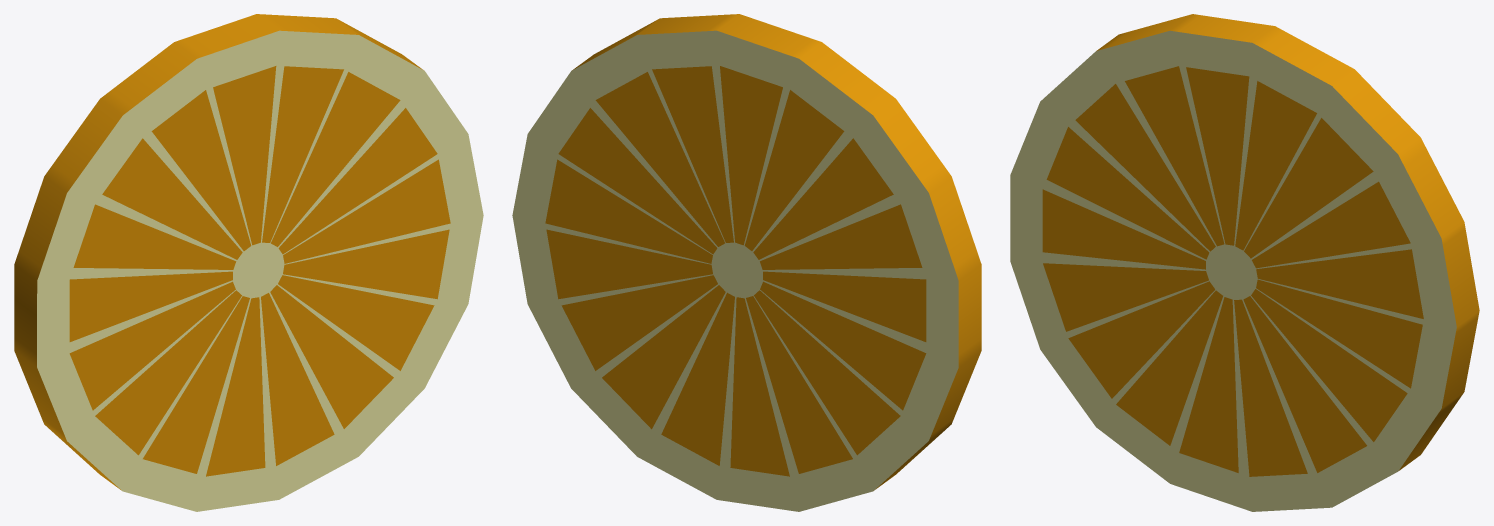
File: lamelle_citron_jaune.FBX
3 views of the same model, side by side, from view 1: azimuth 30°, elevation 25°; view 2: azimuth 150°, elevation 25°; view 3: azimuth 330°, elevation 25° (orthographic).
Visible parts, largest first — view 1: Tranche_vert; view 2: Tranche_vert; view 3: Tranche_vert.
Boxes of the visible parts, x1,y1,x2,y2 form: Tranche_vert: (14,14,483,511); Tranche_vert: (512,14,981,511); Tranche_vert: (1010,14,1479,511).
Size of the model in its own units: 46.45 by 46.65 by 4.14.
